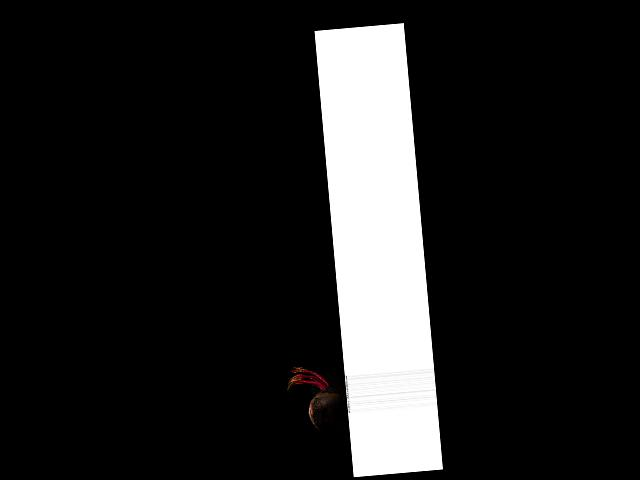beet: (285, 363, 350, 446)
